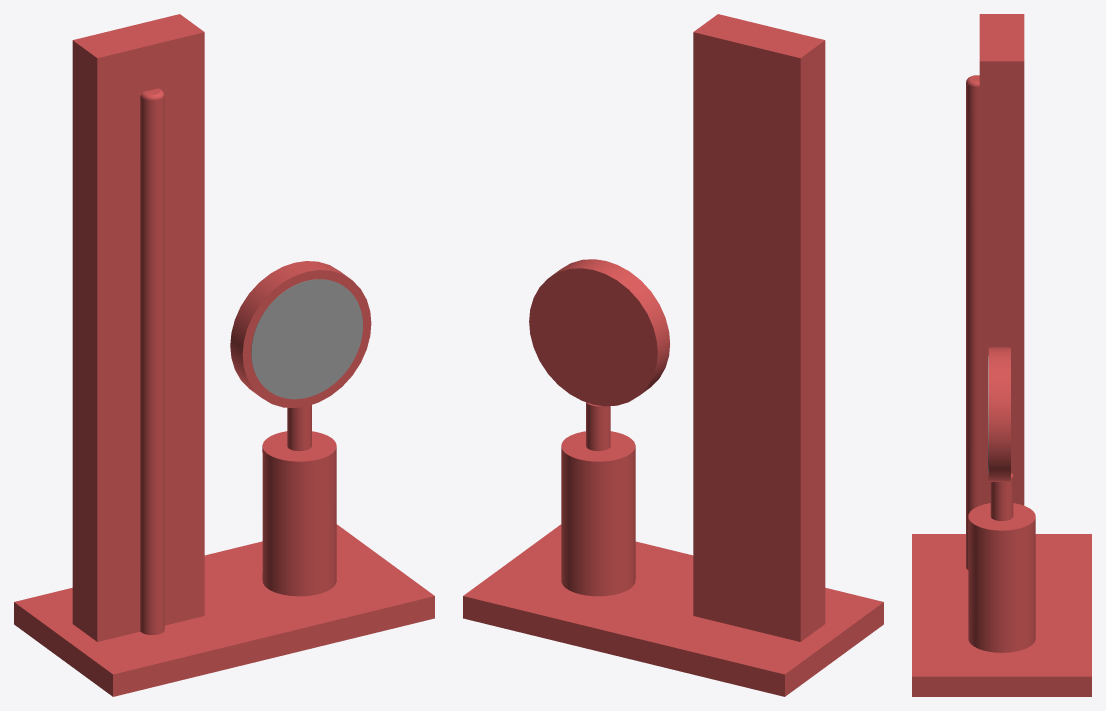
Rendered from boyleslaw.fbx.
3 views of the same model, side by side, from view 1: azimuth 30°, elevation 25°; view 2: azimuth 150°, elevation 25°; view 3: azimuth 270°, elevation 25° (orthographic). The views are drawn at different scales.
Visible parts, largest first — view 1: Body3, Body5; view 2: Body3; view 3: Body3.
Part boxes in pixels (x1,y1,x2,y2): Body3: (14,14,434,696); Body5: (251,279,362,399); Body3: (463,14,883,696); Body3: (912,14,1091,696).
Size of the model in its own units: 7.5 by 13.5 by 4.
